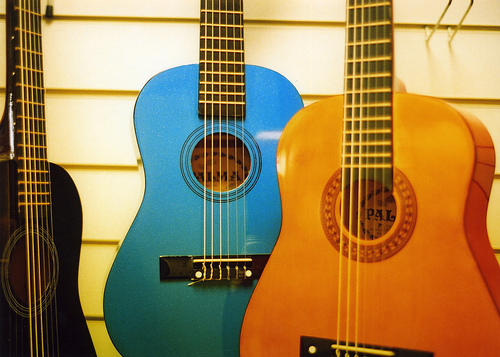guitar: (238, 1, 500, 356), (102, 1, 306, 355), (1, 1, 98, 355)
